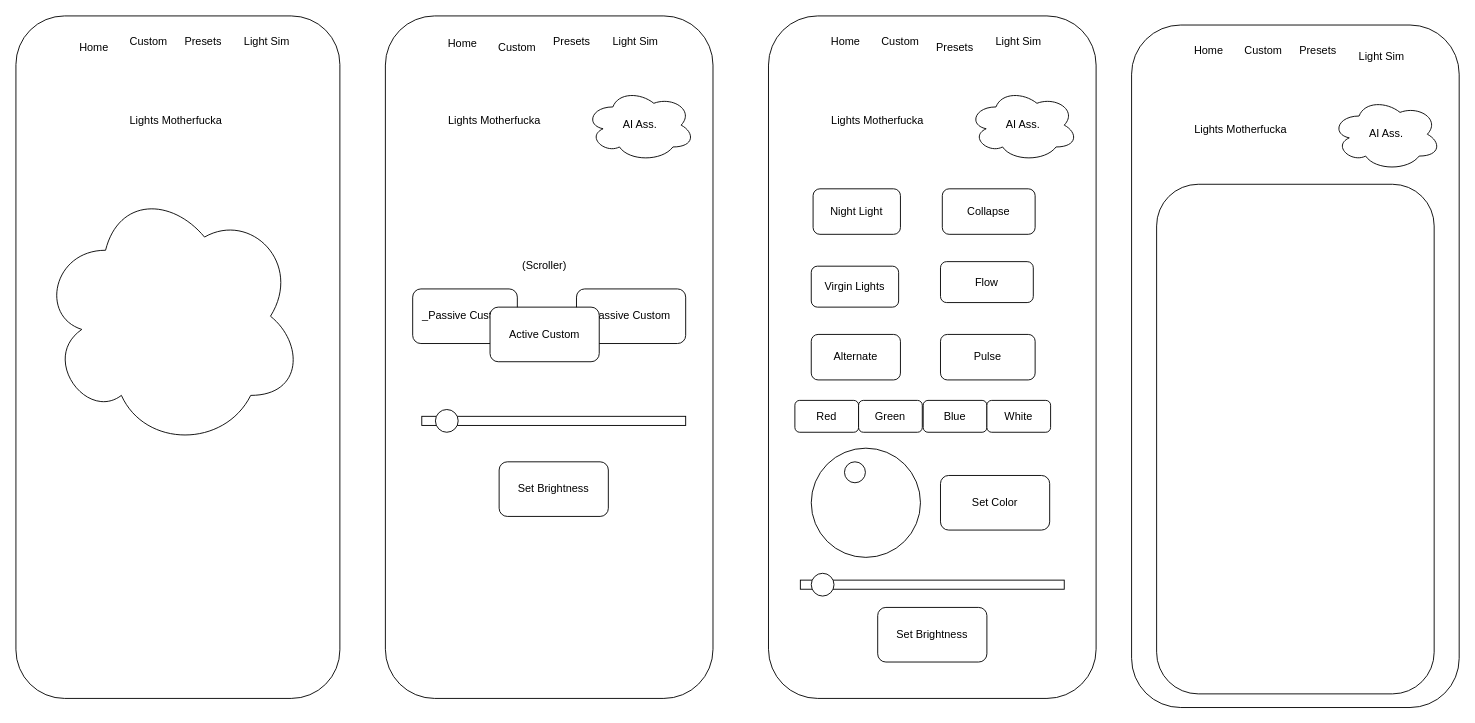
This 1475x723 diagram has some shape labels left out. The shapes that lost their labels are listed below. From the top down, each one's centre as x and y in pixels, then its label:
At point 171,315: "AI Assistant".
At point 1295,438: "(Light simulation)".
